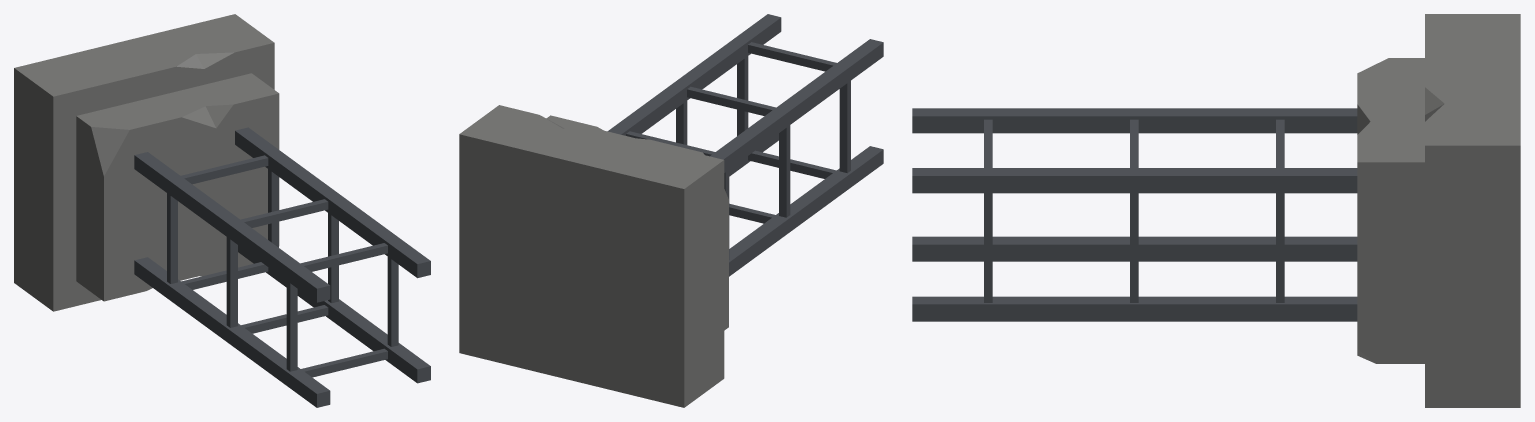
Rendered from SM_Prop_Sign_Attachment_03.fbx.
The picture shows the model from 3 angles, left to right: view 1: azimuth 30°, elevation 25°; view 2: azimuth 150°, elevation 25°; view 3: azimuth 270°, elevation 25°; orthographic projection. The views are drawn at different scales.
Parts seen in each view (by area): view 1: SM_Prop_Sign_Attachment_03; view 2: SM_Prop_Sign_Attachment_03; view 3: SM_Prop_Sign_Attachment_03.
Boxes of the visible parts, <box> form: SM_Prop_Sign_Attachment_03: <box>14,14,430,407</box>; SM_Prop_Sign_Attachment_03: <box>459,14,883,407</box>; SM_Prop_Sign_Attachment_03: <box>912,14,1520,407</box>.
Size of the model in its own units: 62.31 by 57.91 by 122.
